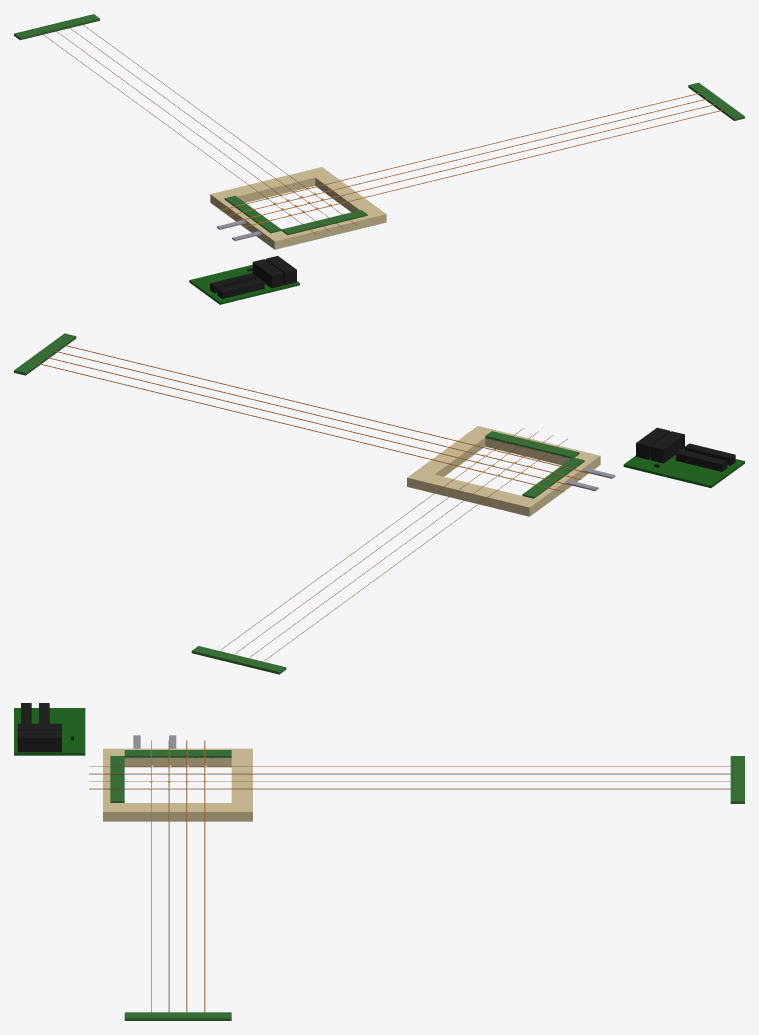
Rendered from wire_grid_detail.glb.
3 views of the same model, one above another, from view 1: azimuth 30°, elevation 25°; view 2: azimuth 150°, elevation 25°; view 3: azimuth 270°, elevation 25° (orthographic). The views are drawn at different scales.
Visible parts, largest first — view 1: frame, row_wires_0p5_enamel, rails_fr4, tag_headers, col_wires_0p25_enamel, tag_WG_TAG; view 2: frame, row_wires_0p5_enamel, rails_fr4, tag_headers, tag_WG_TAG, col_wires_0p25_enamel; view 3: frame, col_wires_0p25_enamel, rails_fr4, tag_WG_TAG, row_wires_0p5_enamel, tag_headers.
Boxes of the visible parts, x1,y1,x2,y2 form: frame: (210, 167, 386, 249); row_wires_0p5_enamel: (220, 93, 722, 227); rails_fr4: (14, 14, 744, 235); tag_headers: (210, 256, 296, 298); col_wires_0p25_enamel: (40, 22, 356, 234); tag_WG_TAG: (189, 264, 299, 304); frame: (407, 426, 600, 516); row_wires_0p5_enamel: (38, 345, 589, 492); rails_fr4: (14, 333, 584, 674); tag_headers: (636, 427, 735, 471); tag_WG_TAG: (623, 449, 744, 487); col_wires_0p25_enamel: (220, 428, 567, 660); frame: (103, 748, 252, 821); col_wires_0p25_enamel: (89, 766, 730, 789); rails_fr4: (110, 750, 744, 1020); tag_WG_TAG: (14, 708, 85, 755); row_wires_0p5_enamel: (151, 740, 205, 1012); tag_headers: (17, 703, 73, 752).
Bounding box in the file's own units: 430 × 11.2 × 410.
